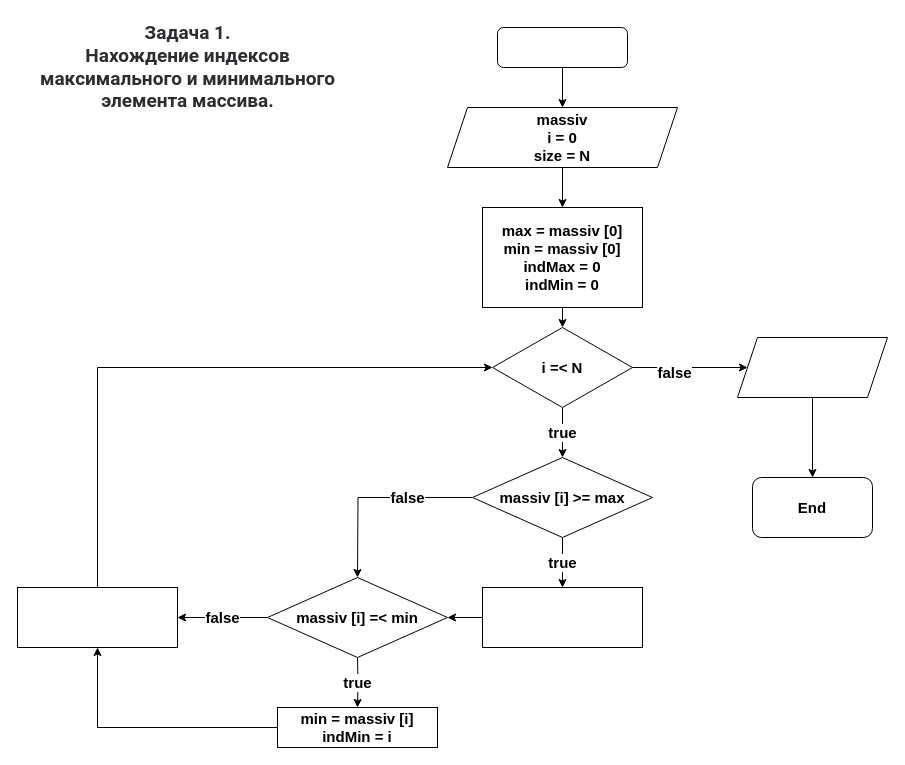
This 905x765 diagram has some shape labels left out. Here are the shapes that lost their labels. From the top down, the box of each, then its label:
(496, 26, 628, 68): Begin
(736, 336, 888, 398): indMax indMin
(16, 586, 178, 648): i = i+1
(482, 586, 642, 648): max = massiv [i] indMax = i
